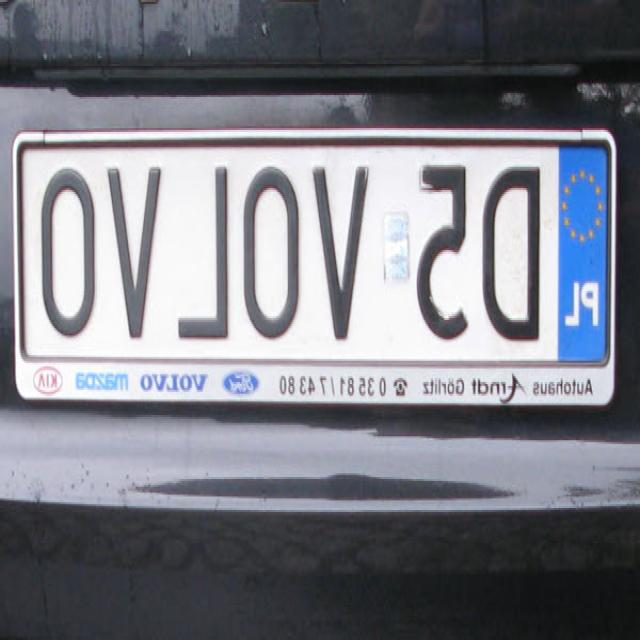pl_license_plate: (25, 145, 609, 353)
